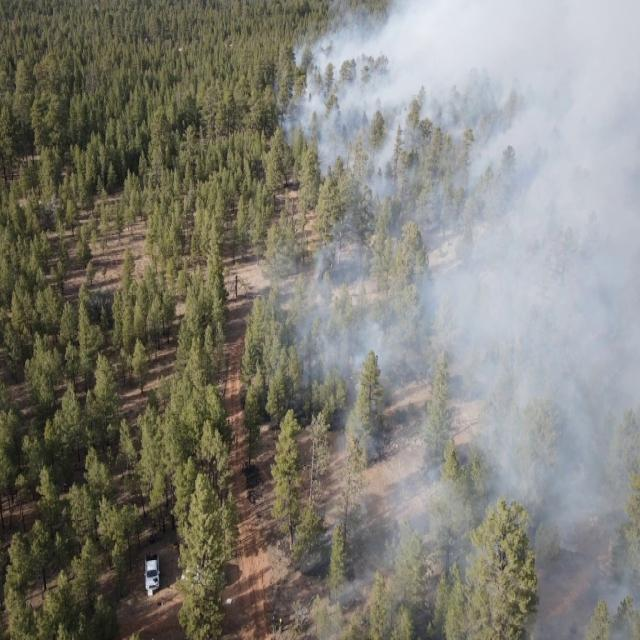smoke: (279, 0, 639, 404), (319, 405, 640, 640)
